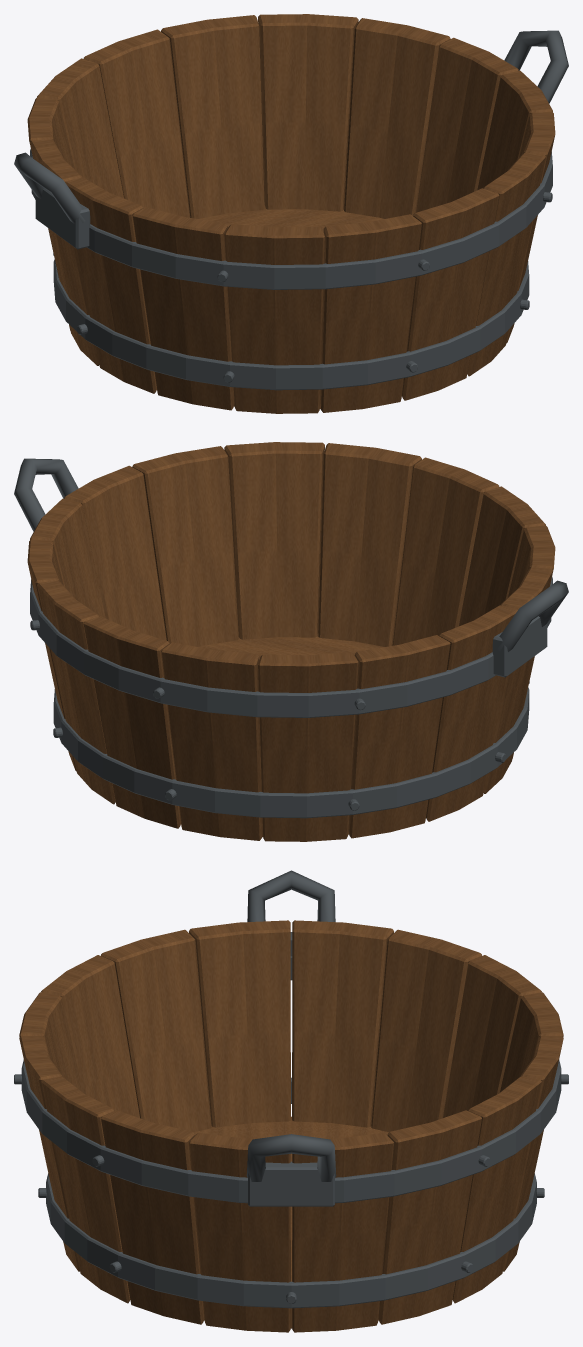
File: wooden-wash-basin.glb
The picture shows the model from 3 angles, top to bottom: view 1: azimuth 30°, elevation 25°; view 2: azimuth 150°, elevation 25°; view 3: azimuth 270°, elevation 25°; orthographic projection. The views are drawn at different scales.
Parts seen in each view (by area): view 1: Wash basin stave 03, Wash basin stave 04, Wash basin stave 02, Wash basin stave 11, Wash basin stave 12, Forged retaining hoop, Wash basin stave 05, Forged retaining hoop.001, Wash basin stave 10, Wash basin stave 01, Wash basin stave 13, Wash basin stave 09 (+10 smaller); view 2: Wash basin stave 14, Wash basin stave 13, Wash basin stave 15, Wash basin stave 06, Wash basin stave 05, Forged retaining hoop, Wash basin stave 12, Forged retaining hoop.001, Wash basin stave 07, Wash basin stave 16, Wash basin stave 04, Wash basin stave 08 (+10 smaller); view 3: Wash basin stave 08, Wash basin stave 09, Wash basin stave 07, Wash basin stave 10, Forged retaining hoop, Forged retaining hoop.001, Wash basin stave 01, Wash basin stave 16, Wash basin stave 02, Wash basin stave 15, Wash basin stave 06, Wash basin stave 11 (+10 smaller).
Boxes of the visible parts, <box> form: Wash basin stave 03: <box>258,14,358,211</box>; Wash basin stave 04: <box>161,15,264,218</box>; Wash basin stave 02: <box>344,18,450,218</box>; Wash basin stave 11: <box>224,224,324,413</box>; Wash basin stave 12: <box>320,214,421,412</box>; Forged retaining hoop: <box>53,259,529,390</box>; Wash basin stave 05: <box>83,29,190,217</box>; Forged retaining hoop.001: <box>30,149,552,289</box>; Wash basin stave 10: <box>132,207,234,410</box>; Wash basin stave 01: <box>416,37,518,212</box>; Wash basin stave 13: <box>402,188,499,400</box>; Wash basin stave 09: <box>65,177,156,393</box>; Wash basin stave 14: <box>224,442,324,639</box>; Wash basin stave 13: <box>318,443,421,646</box>; Wash basin stave 15: <box>132,446,238,646</box>; Wash basin stave 06: <box>258,652,358,841</box>; Wash basin stave 05: <box>161,642,262,840</box>; Forged retaining hoop: <box>53,687,529,818</box>; Wash basin stave 12: <box>392,457,499,645</box>; Forged retaining hoop.001: <box>30,577,552,717</box>; Wash basin stave 07: <box>348,635,450,838</box>; Wash basin stave 16: <box>64,465,166,640</box>; Wash basin stave 04: <box>83,616,180,828</box>; Wash basin stave 08: <box>426,605,517,821</box>; Wash basin stave 08: <box>292,920,393,1127</box>; Wash basin stave 09: <box>189,920,290,1127</box>; Wash basin stave 07: <box>371,929,481,1132</box>; Wash basin stave 10: <box>101,929,211,1132</box>; Forged retaining hoop: <box>46,1077,536,1308</box>; Forged retaining hoop.001: <box>21,956,561,1203</box>; Wash basin stave 01: <box>292,1133,393,1332</box>; Wash basin stave 16: <box>189,1133,290,1332</box>; Wash basin stave 02: <box>378,1110,481,1324</box>; Wash basin stave 15: <box>101,1110,204,1324</box>; Wash basin stave 06: <box>443,955,541,1117</box>; Wash basin stave 11: <box>41,955,139,1117</box>.
Size of the model in its own units: 0.5899 by 0.2362 by 0.5084.
4 materials, 3 textured.
